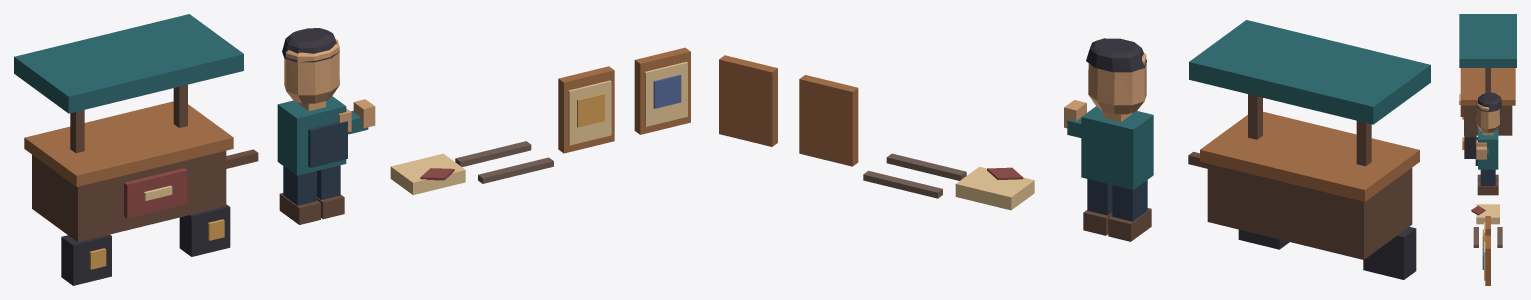
Rendered from ina-tea-case-model.obj.
The picture shows the model from 3 angles, left to right: view 1: azimuth 30°, elevation 25°; view 2: azimuth 150°, elevation 25°; view 3: azimuth 270°, elevation 25°; orthographic projection. The views are drawn at different scales.
Parts seen in each view (by area): view 1: TeaCase; view 2: TeaCase; view 3: TeaCase.
Part boxes in pixels (<box>): TeaCase: <box>14,14,690,285</box>; TeaCase: <box>719,20,1430,279</box>; TeaCase: <box>1459,14,1516,285</box>.
Bounding box in the file's own units: 6.01 × 1.79 × 0.8855.
